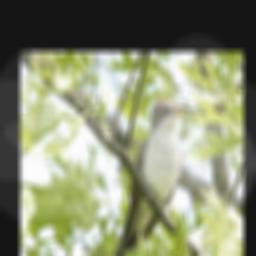Cuckoo: (109, 96, 191, 256)
